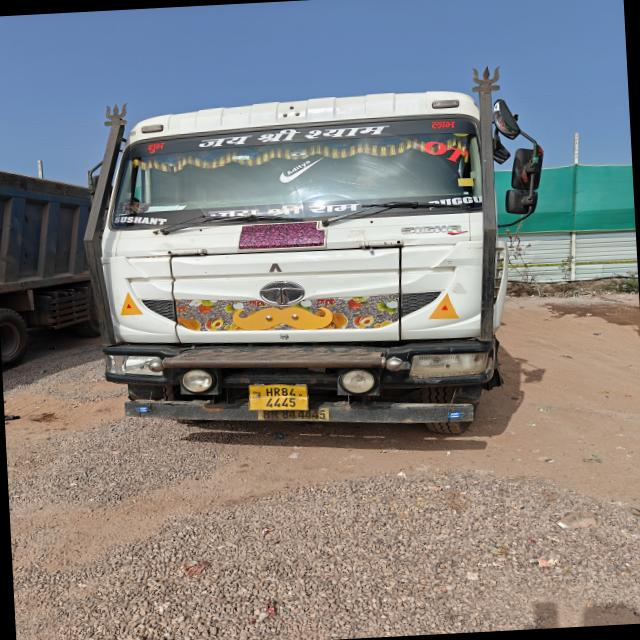license_plate: (249, 385, 309, 410), (259, 408, 329, 421)
